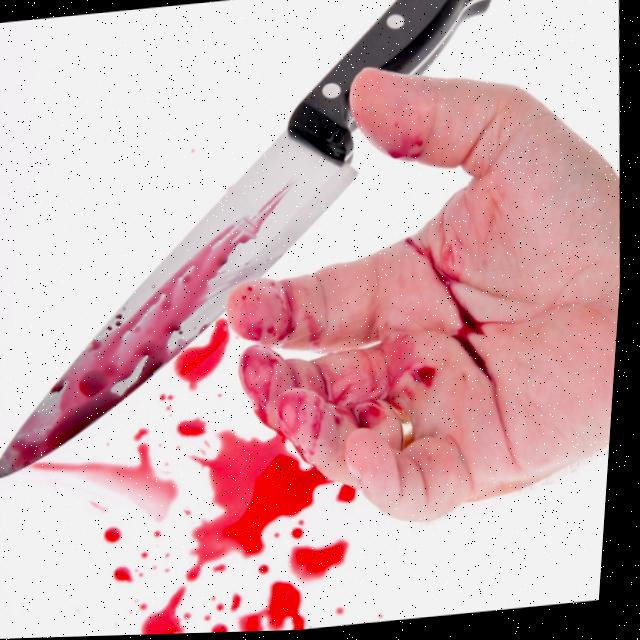knife: (0, 0, 528, 484)
